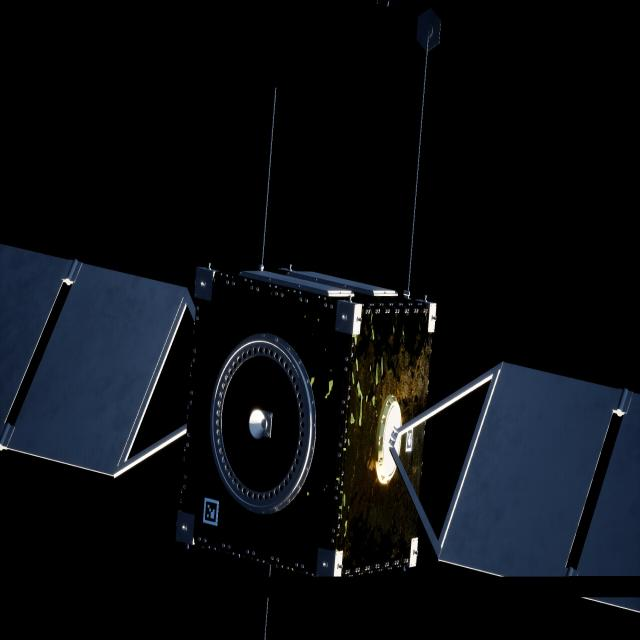medium_debris: (0, 245, 640, 582)
